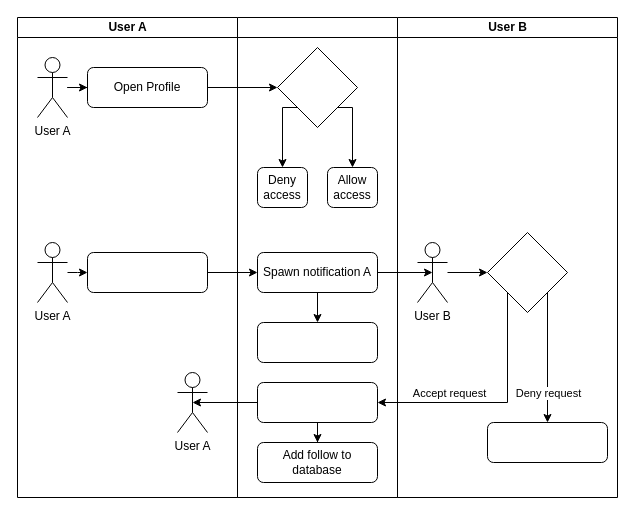
This 635x515 diagram has some shape labels left out. The shapes that lost their labels are listed below. From the top down, each one's box as (x1, y1, x2, y2) in pixels, then its label:
(276, 46, 358, 128): Following?
(86, 252, 208, 292): Request follow
(236, 16, 398, 498): Backend
(256, 322, 378, 362): Add follow request to database
(256, 382, 378, 422): Spawn notification B
(486, 422, 608, 462): Delete notification A
